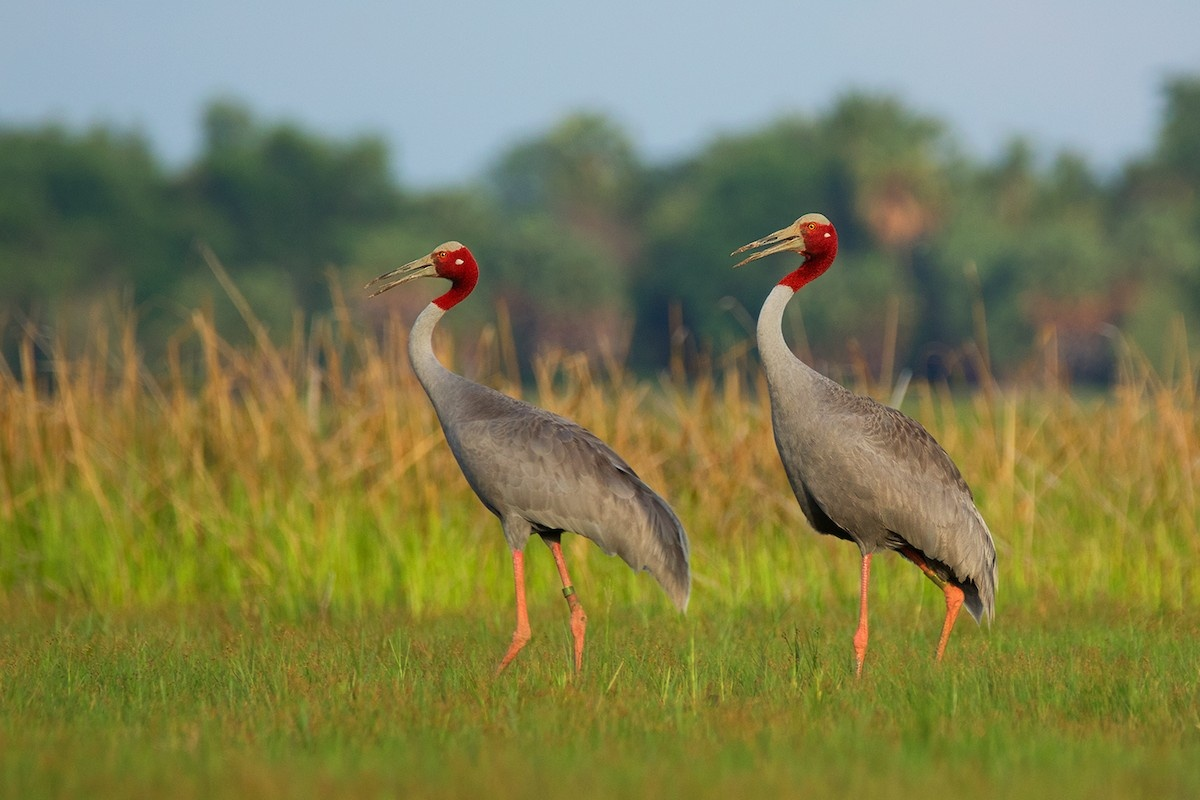crane: (350, 215, 698, 669), (725, 200, 1016, 669)
